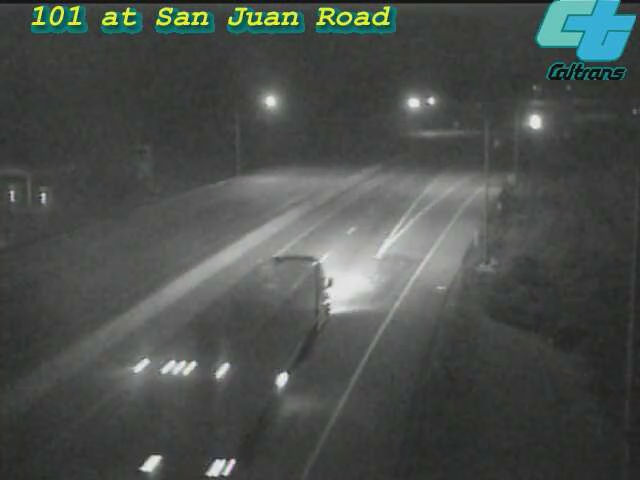vehicle: (214, 268, 324, 378), (511, 97, 561, 147)
